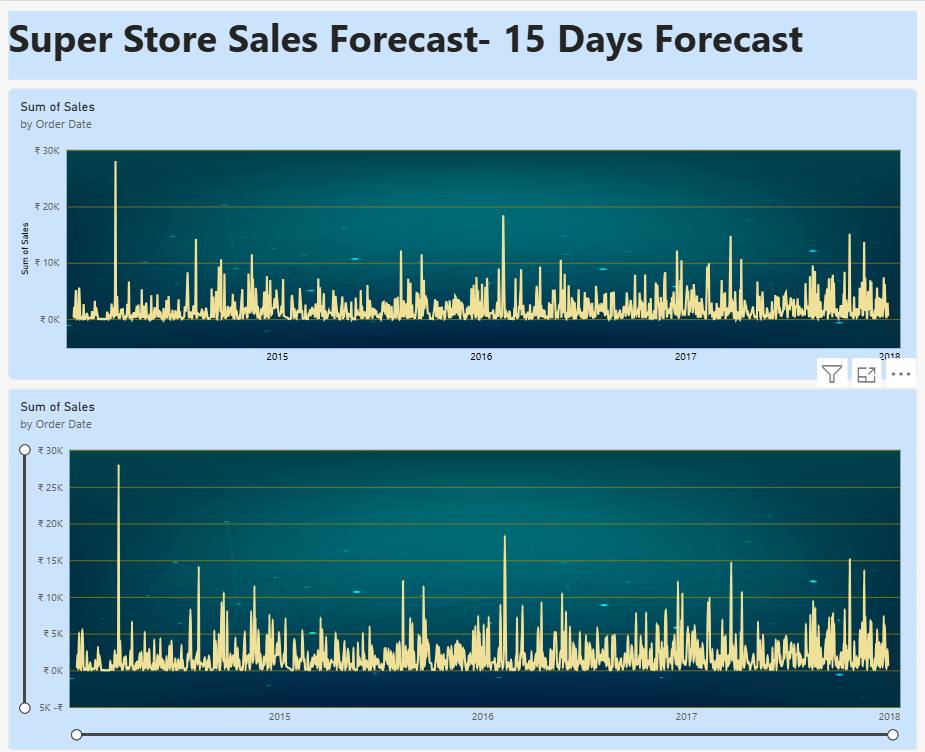

Layout of this report page (visuals, bound fields, positions):
{"tool":"powerbi","page":{"name":"Page 2","canvas":[1920,1080],"ordinal":1},"visuals":[{"type":"lineChart","fields":{"Y":["Sum(Sample - Superstore.Sales)"],"Category":["Sample - Superstore.Order Date"]},"box":[15.7,122.1,1268,406.4],"z":0},{"type":"lineChart","fields":{"Y":["Sum(Sample - Superstore.Sales)"],"Category":["Sample - Superstore.Order Date"]},"box":[15.7,540.7,1268,505.8],"z":1000},{"type":"textbox","box":[15.7,14,1268,95.9],"z":3000}]}

Visuals, with their boxes on the page's 1920x1080 design canvas (x1, y1, x2, y2). These are canvas units, not pixel positions in the 925x752 screenshot, which may show the page scaled, cropped or inside an application window:
lineChart - Sum(Sample - Superstore.Sales) x Sample - Superstore.Order Date: bbox=[16, 122, 1284, 528]
lineChart - Sum(Sample - Superstore.Sales) x Sample - Superstore.Order Date: bbox=[16, 541, 1284, 1046]
textbox: bbox=[16, 14, 1284, 110]
